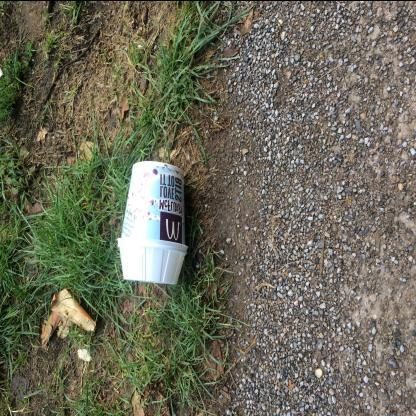karton: (117, 161, 190, 287)
